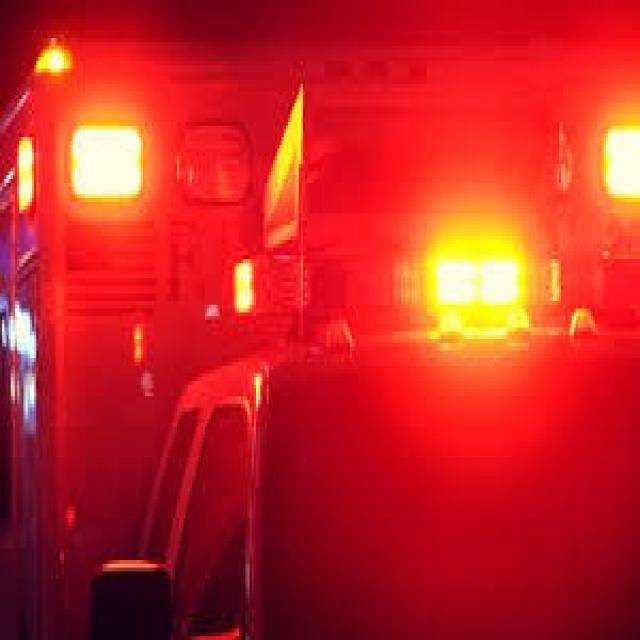ambulance: (7, 41, 640, 356)
